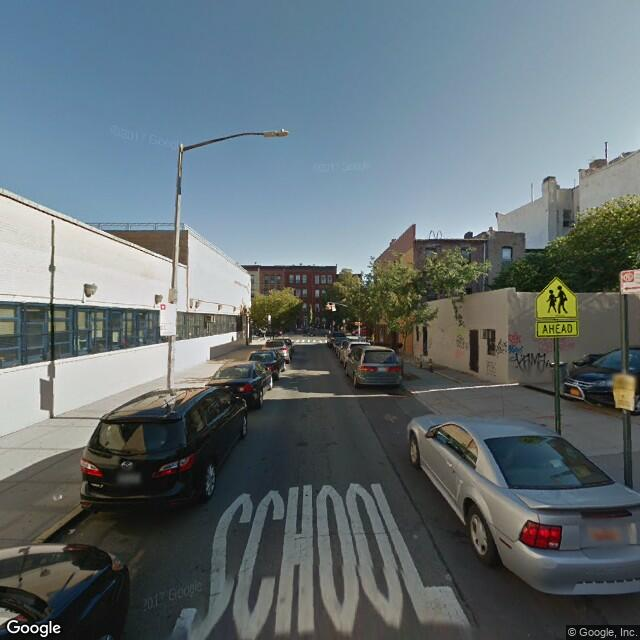litter: (65, 526, 78, 536), (48, 491, 63, 499)
